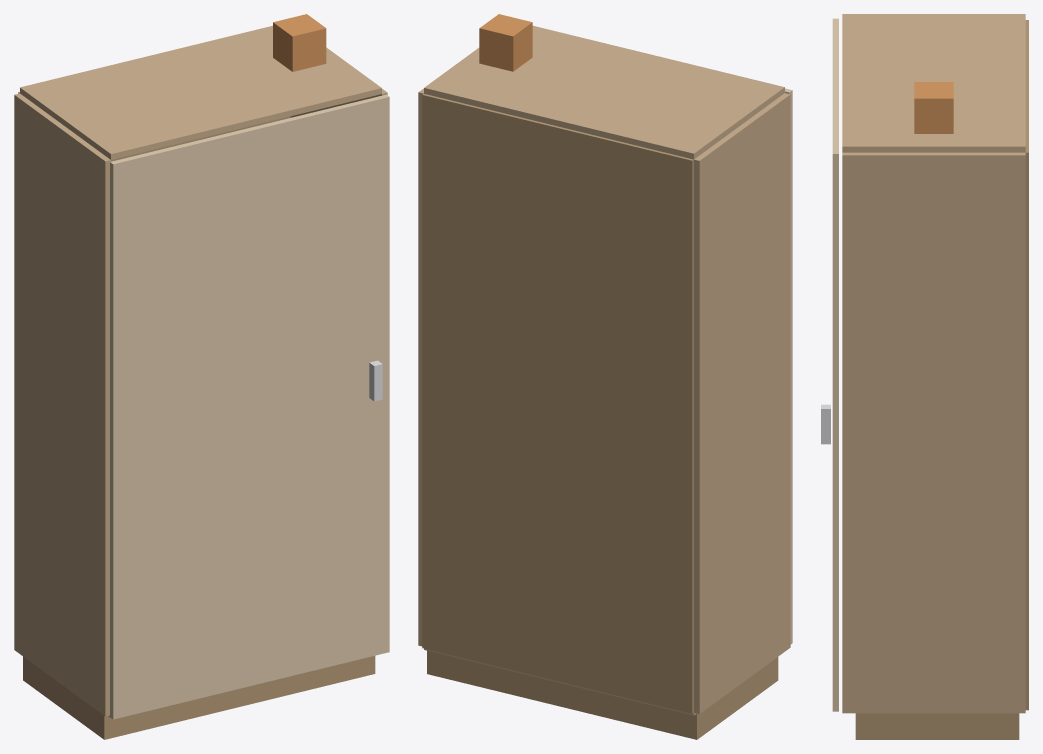
Rendered from sample.glb.
The picture shows the model from 3 angles, left to right: view 1: azimuth 30°, elevation 25°; view 2: azimuth 150°, elevation 25°; view 3: azimuth 270°, elevation 25°; orthographic projection.
Parts seen in each view (by area): view 1: Pintu_Panel, Lemari_SampingKiri, Lemari_Atas, Lemari_Plint, Spinner; view 2: Lemari_Backing, Lemari_SampingKiri, Lemari_Atas, Lemari_Plint, Lemari_SampingKanan, Spinner, Pintu_Panel; view 3: Lemari_SampingKanan, Lemari_Atas, Pintu_Panel, Lemari_Plint, Lemari_Backing, Spinner, Knob.
Boxes of the visible parts, x1,y1,x2,y2 form: Pintu_Panel: (110, 94, 389, 719); Lemari_SampingKiri: (14, 93, 110, 716); Lemari_Atas: (20, 25, 381, 159); Lemari_Plint: (23, 656, 375, 739); Spinner: (273, 14, 326, 71); Lemari_Backing: (422, 94, 693, 713); Lemari_SampingKiri: (694, 93, 790, 713); Lemari_Atas: (424, 25, 784, 159); Lemari_Plint: (427, 650, 778, 739); Lemari_SampingKanan: (418, 88, 423, 646); Spinner: (479, 14, 532, 71); Pintu_Panel: (785, 88, 792, 644); Lemari_SampingKanan: (842, 152, 1025, 712); Lemari_Atas: (842, 14, 1025, 152); Pintu_Panel: (832, 18, 838, 711); Lemari_Plint: (855, 713, 1019, 739); Lemari_Backing: (1025, 20, 1028, 710); Spinner: (914, 82, 953, 133); Knob: (821, 404, 830, 444).
Size of the model in its own units: 1 by 2.13 by 0.635.
